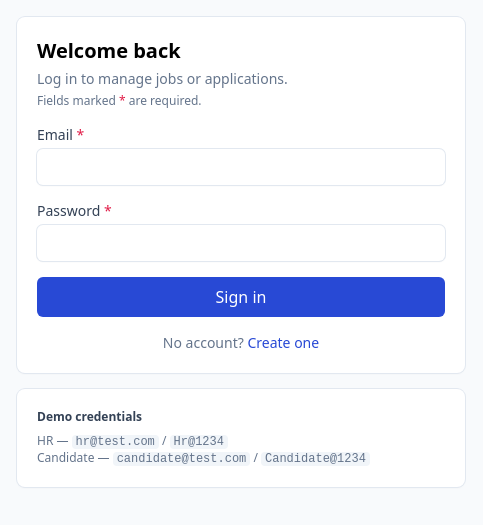
<LoginPage /> › shows a validation error when email is missing
This screenshot has width=483, height=525.
Step 1. Type "anything" into the password field labelled "Password *" → (241, 243), box [37, 225, 445, 261]
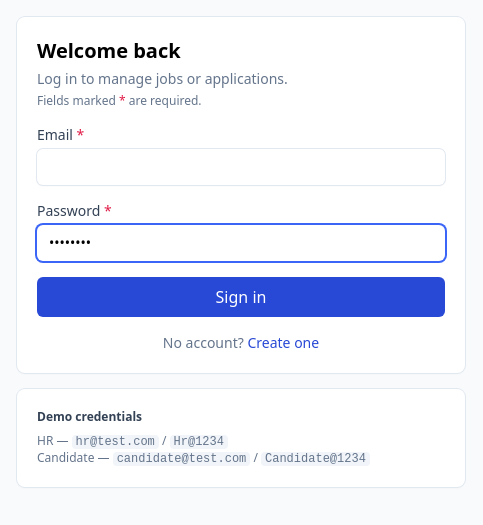
Step 2. Click the button "Sign in" → (241, 297), box [37, 277, 445, 317]
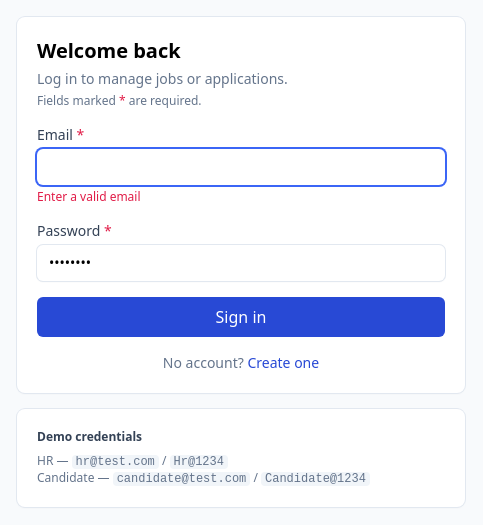
Result: the text "Enter a valid email" is shown at [37, 188, 141, 205]
